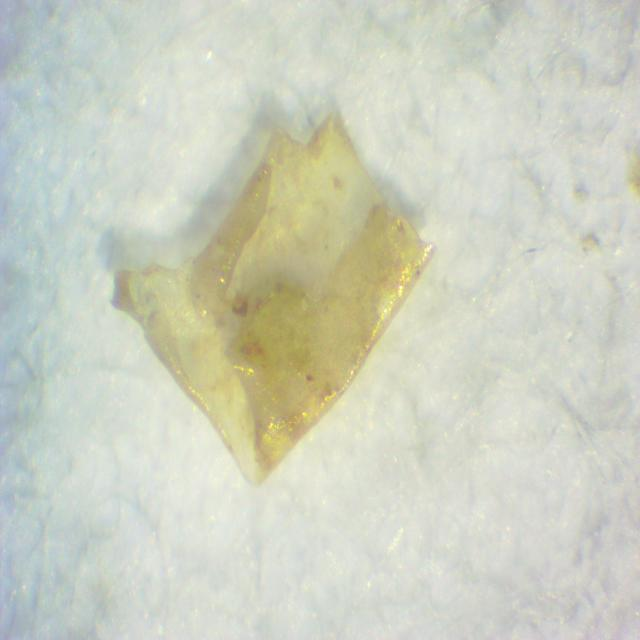microplastic: (108, 108, 435, 491)
